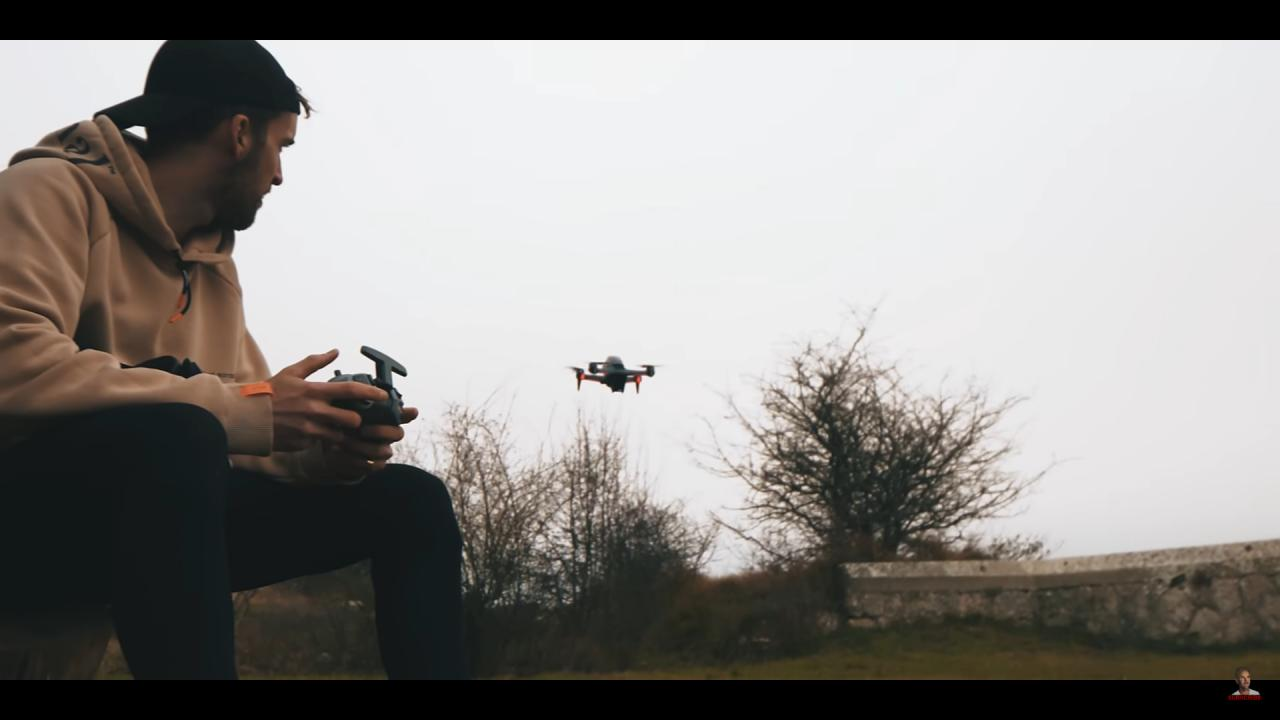Drone: (557, 351, 673, 404)
